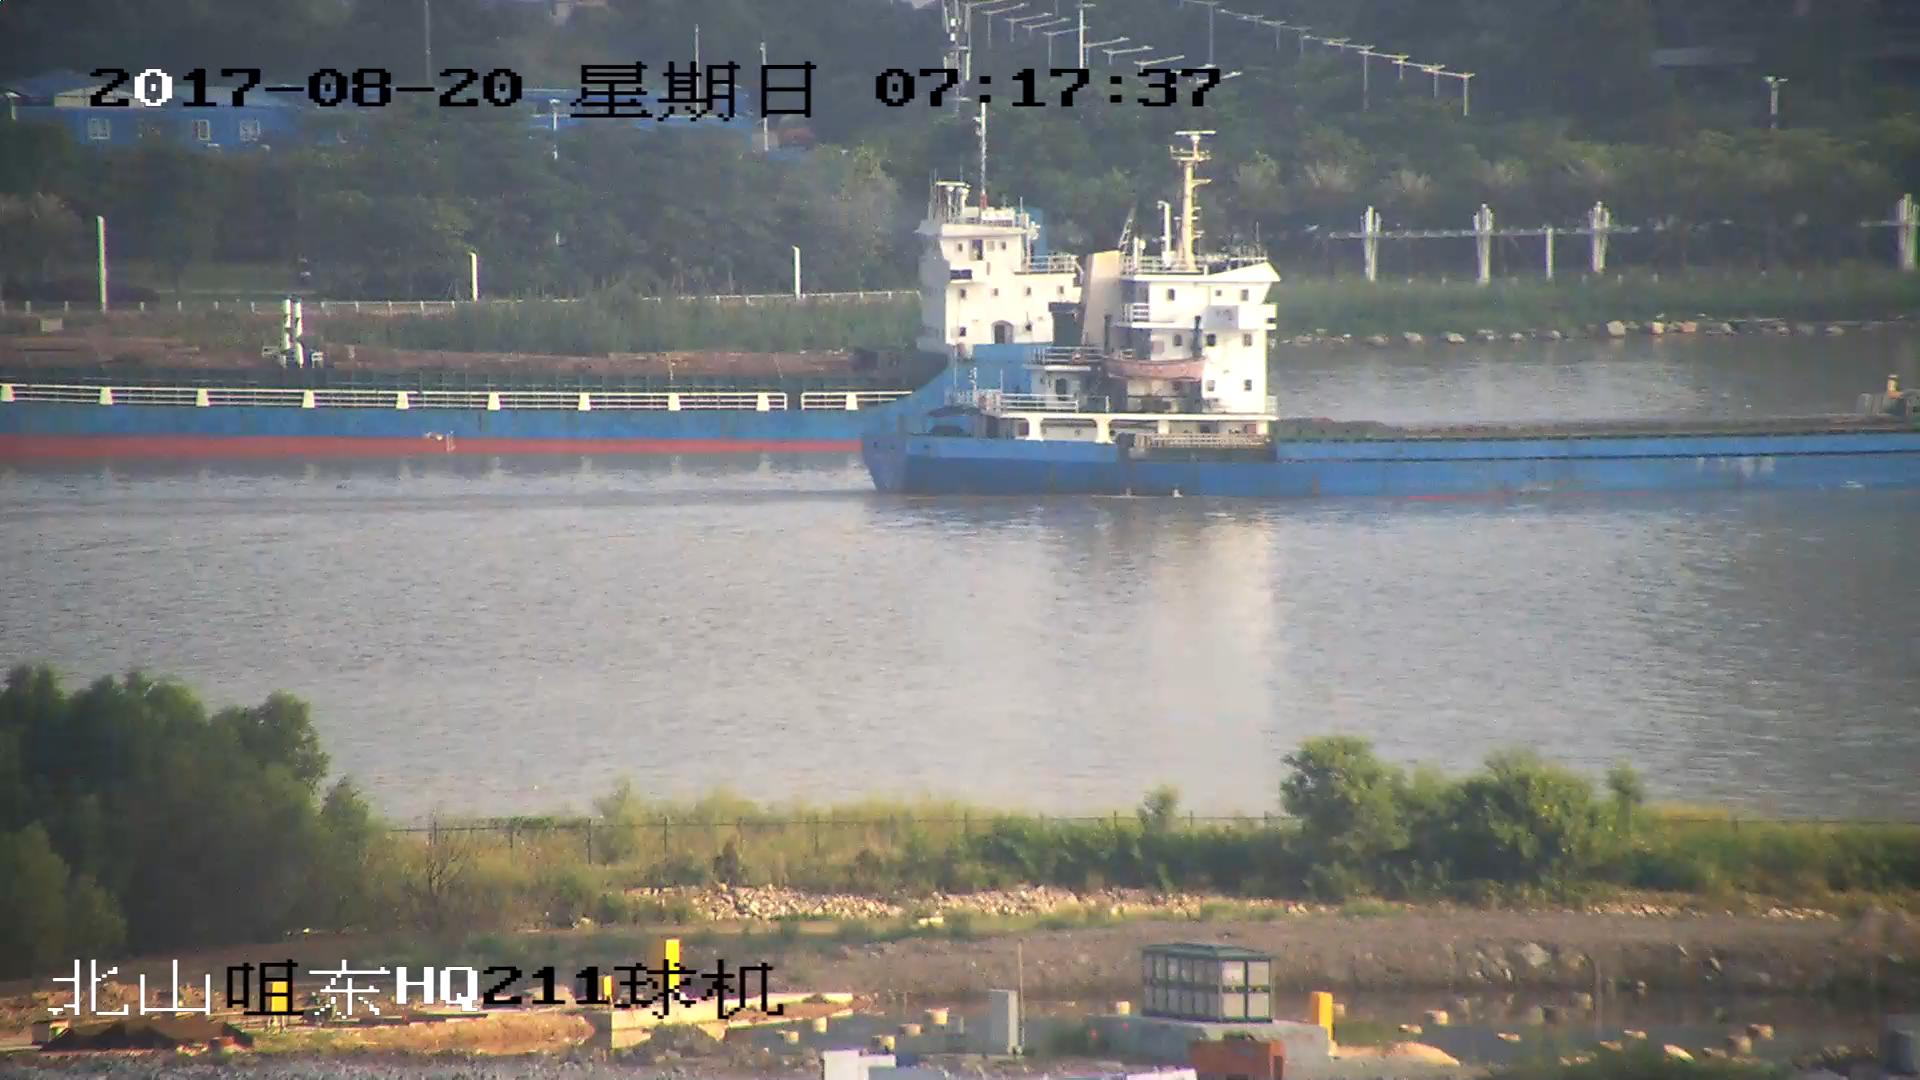general cargo ship: (1, 199, 1243, 452), (875, 250, 1920, 494)
